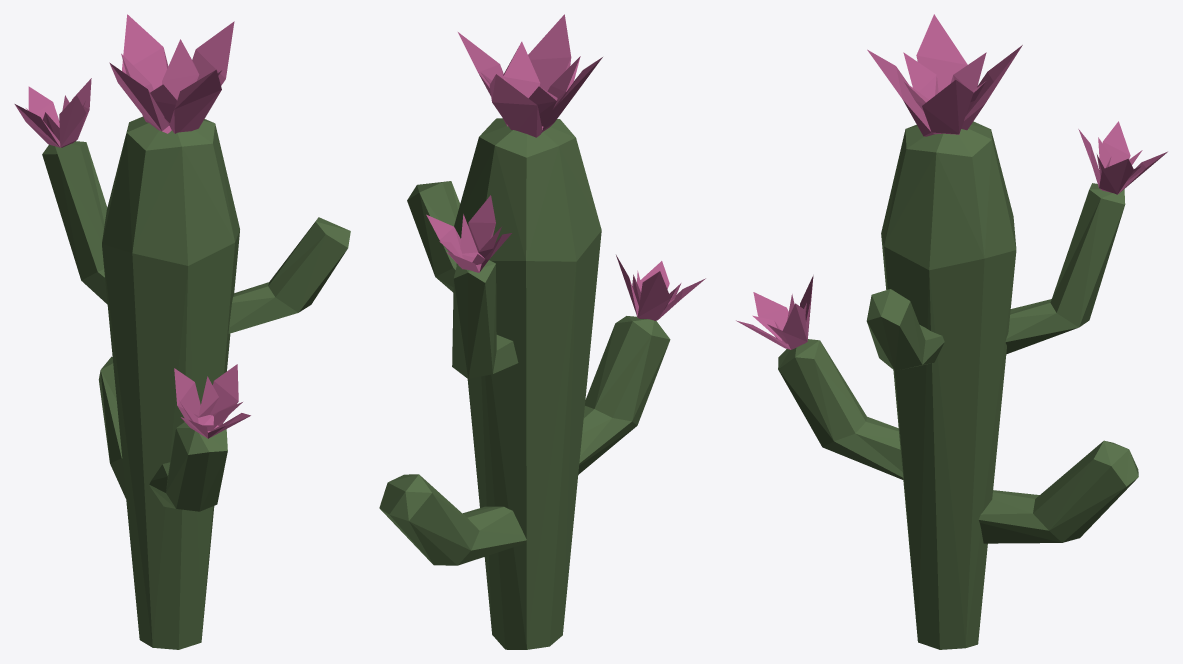
The model's file is CactusFlowers_2.lod2.glb.
3 views of the same model, side by side, from view 1: azimuth 30°, elevation 25°; view 2: azimuth 150°, elevation 25°; view 3: azimuth 270°, elevation 25° (orthographic).
Visible parts, largest first — view 1: CactusFlowers_2; view 2: CactusFlowers_2; view 3: CactusFlowers_2.
Part boxes in pixels (bbox=[...]): CactusFlowers_2: bbox=[14, 14, 350, 649]; CactusFlowers_2: bbox=[379, 14, 705, 649]; CactusFlowers_2: bbox=[736, 14, 1167, 649].
Size of the model in its own units: 0.7653 by 1.92 by 1.27.
